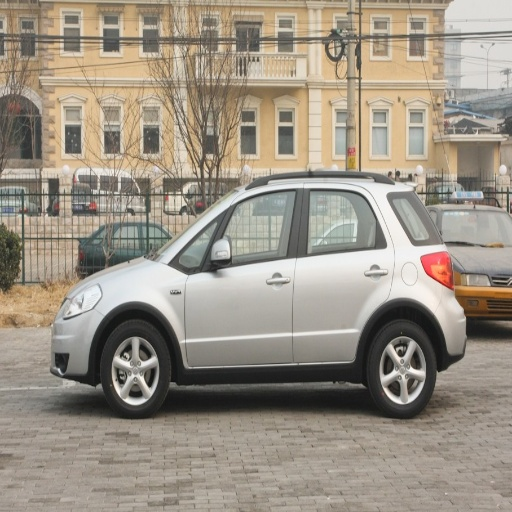back_bumper: (435, 300, 467, 360)
back_glass: (389, 192, 479, 243)
back_left_door: (292, 184, 394, 362)
front_left_door: (183, 185, 302, 365)
